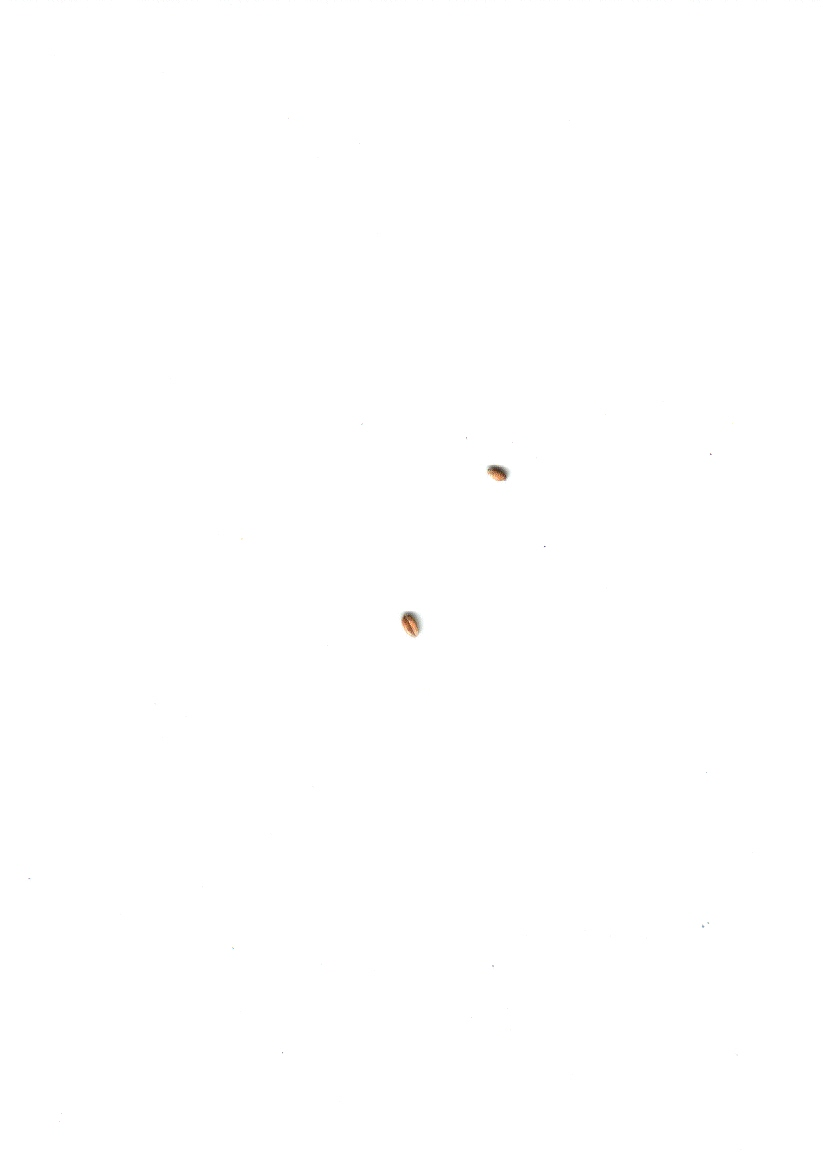grains: (475, 453, 516, 498), (393, 602, 429, 651)
